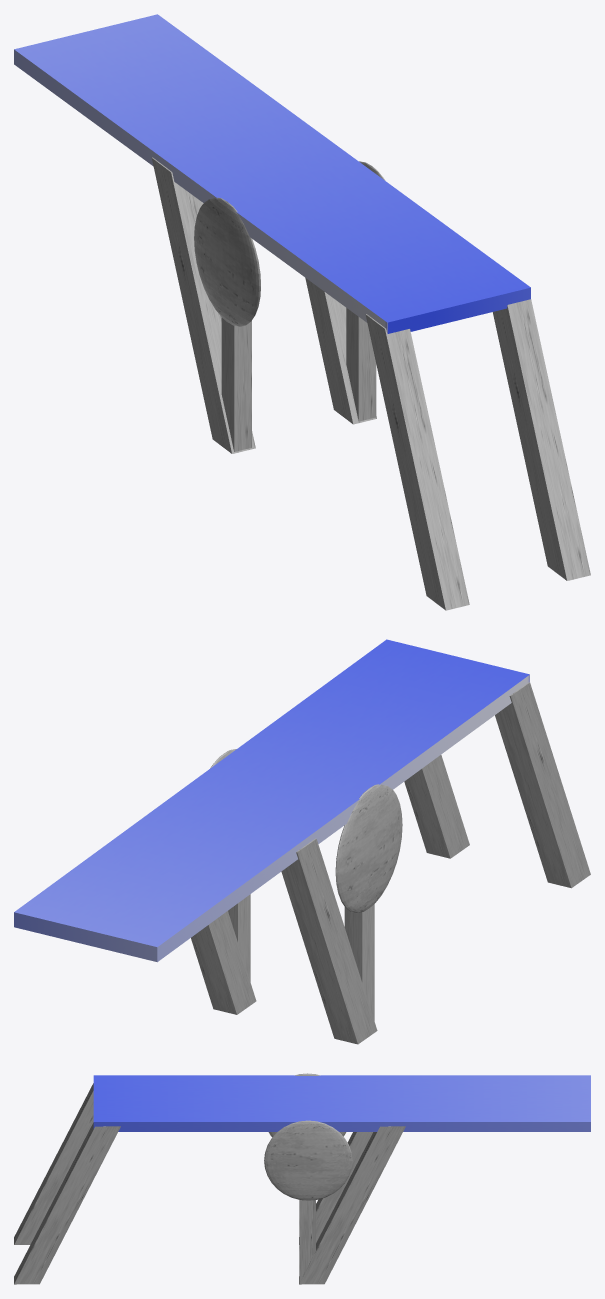
File: divingboard.glb
The picture shows the model from 3 angles, top to bottom: view 1: azimuth 30°, elevation 25°; view 2: azimuth 150°, elevation 25°; view 3: azimuth 270°, elevation 25°; orthographic projection. The views are drawn at different scales.
Visible parts, largest first — view 1: Cube, Cube.002, Cube.001, Cube.006, Sphere.001, Cube.004, Cube.007, Cube.005; view 2: Cube, Cube.006, Cube.002, Sphere.001, Cube.001, Cube.007, Cube.004, Cube.005; view 3: Cube, Sphere, Cube.001, Cube.007, Cube.002, Cube.006, Cube.005.
Part boxes in pixels (<box>): Cube: <box>14,14,530,333</box>; Cube.002: <box>365,314,469,610</box>; Cube.001: <box>492,299,590,580</box>; Cube.006: <box>152,157,255,453</box>; Sphere.001: <box>194,197,260,326</box>; Cube.004: <box>221,317,251,451</box>; Cube.007: <box>305,278,376,424</box>; Cube.005: <box>346,308,376,421</box>; Cube: <box>14,639,529,962</box>; Cube.006: <box>281,838,377,1044</box>; Cube.002: <box>495,682,590,888</box>; Sphere.001: <box>335,784,402,913</box>; Cube.001: <box>404,755,469,858</box>; Cube.007: <box>191,911,256,1014</box>; Cube.004: <box>344,904,374,1020</box>; Cube.005: <box>228,894,250,981</box>; Cube: <box>93,1075,590,1131</box>; Sphere: <box>264,1120,352,1200</box>; Cube.001: <box>14,1122,120,1284</box>; Cube.007: <box>299,1126,405,1284</box>; Cube.002: <box>14,1083,93,1244</box>; Cube.006: <box>299,1132,372,1244</box>; Cube.005: <box>299,1200,315,1282</box>.
Size of the model in its own units: 2.16 by 3.29 by 10.44.
Materials: 2 (2 with a texture image).
